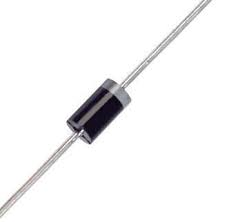diode: (33, 51, 144, 163)
